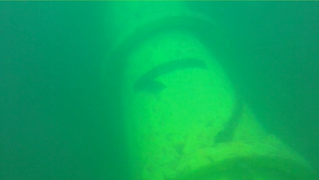1: (132, 58, 207, 93)
pipe: (96, 1, 315, 179)
